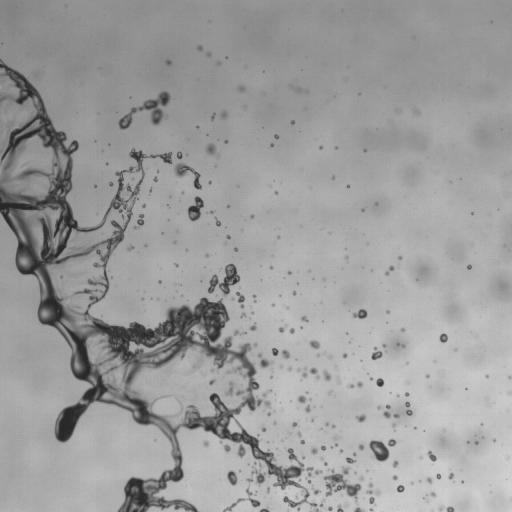droplet: (324, 467, 363, 500), (208, 264, 239, 296), (369, 438, 396, 461), (188, 196, 203, 221), (366, 483, 380, 504), (258, 353, 272, 368), (227, 470, 237, 485), (371, 347, 382, 359), (353, 309, 367, 318), (206, 143, 217, 154), (383, 405, 391, 418), (310, 340, 320, 349), (427, 451, 436, 461), (323, 371, 331, 381), (439, 333, 447, 342), (281, 350, 290, 358), (356, 414, 365, 422), (337, 504, 347, 511), (298, 395, 306, 403), (376, 378, 383, 386), (223, 444, 230, 452), (346, 457, 354, 464), (238, 85, 245, 92), (272, 348, 279, 355), (397, 485, 404, 492), (278, 326, 286, 332), (220, 111, 226, 118), (177, 151, 183, 158), (249, 324, 256, 330), (209, 378, 216, 384), (311, 447, 317, 454), (392, 460, 398, 467), (215, 218, 220, 226), (301, 316, 307, 322), (203, 440, 209, 446), (358, 444, 364, 450), (426, 477, 432, 483), (305, 405, 310, 412), (127, 245, 133, 250), (357, 381, 362, 387), (448, 473, 453, 479), (430, 492, 436, 497), (326, 506, 332, 511), (336, 376, 340, 383), (197, 45, 202, 50), (292, 422, 297, 427), (347, 384, 353, 388), (166, 60, 171, 64), (241, 312, 245, 317), (290, 328, 294, 333), (343, 353, 347, 358), (393, 414, 398, 418), (261, 427, 266, 431), (333, 436, 338, 440), (300, 439, 304, 444), (321, 445, 325, 450), (392, 475, 397, 479), (274, 134, 278, 138), (109, 182, 113, 186), (226, 235, 230, 239), (467, 265, 471, 269), (287, 367, 291, 371), (405, 392, 409, 396), (377, 405, 381, 409), (297, 432, 301, 436), (436, 474, 440, 478), (211, 114, 214, 119), (207, 52, 210, 56), (415, 110, 419, 113), (291, 120, 294, 124), (154, 177, 157, 181), (234, 247, 237, 251), (205, 254, 209, 257), (293, 291, 296, 295), (401, 344, 405, 347), (485, 374, 488, 378), (392, 423, 395, 427), (369, 508, 373, 511), (274, 191, 277, 194), (250, 214, 253, 217), (401, 328, 404, 331), (267, 412, 270, 415), (325, 422, 328, 425), (509, 391, 511, 395), (267, 488, 269, 492), (270, 144, 273, 146), (319, 146, 322, 148), (208, 181, 211, 183), (210, 211, 213, 213), (399, 256, 401, 259), (270, 266, 272, 269), (253, 295, 255, 298), (383, 344, 385, 347), (426, 375, 429, 377), (370, 377, 372, 380), (475, 441, 477, 444), (335, 443, 337, 446), (340, 449, 342, 452), (320, 457, 323, 459), (324, 462, 327, 464), (347, 185, 349, 187), (149, 189, 151, 191), (375, 202, 377, 204), (143, 204, 145, 206), (345, 256, 347, 258), (175, 264, 177, 266), (60, 276, 62, 278), (272, 304, 274, 306), (387, 311, 389, 313), (397, 343, 399, 345), (509, 376, 511, 378), (329, 391, 331, 393), (311, 419, 313, 421), (332, 425, 334, 427), (414, 426, 416, 428), (493, 439, 495, 441), (353, 453, 355, 455)
ligament: (0, 59, 321, 511), (118, 91, 170, 129), (223, 488, 260, 511), (174, 163, 201, 189), (297, 367, 319, 379), (134, 214, 143, 229), (236, 292, 244, 308), (438, 505, 454, 511), (405, 402, 412, 415), (385, 265, 394, 275), (353, 506, 365, 511), (234, 330, 244, 335), (259, 507, 269, 511)
